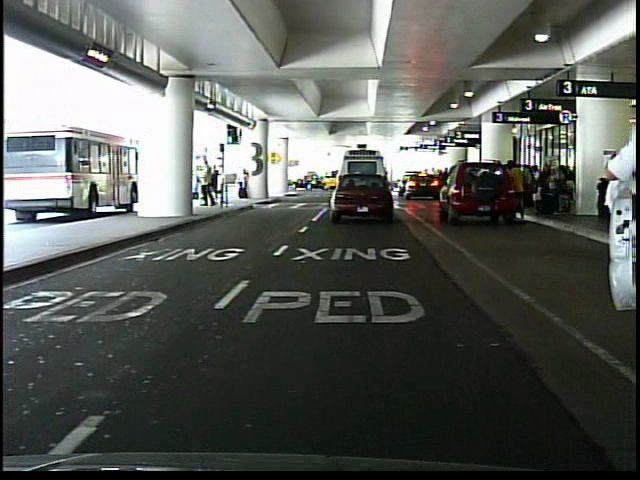person: (588, 94, 639, 375), (596, 149, 626, 233), (506, 159, 527, 223), (200, 155, 218, 211), (237, 166, 255, 203), (210, 162, 223, 208)
